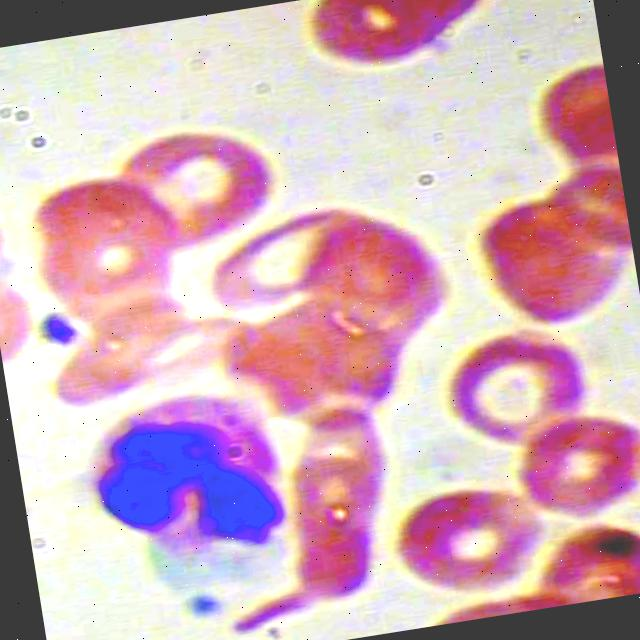Platelets: (34, 304, 90, 351), (182, 584, 228, 624)
RBC: (110, 108, 286, 264), (465, 183, 640, 339), (194, 188, 367, 332), (386, 468, 552, 608), (438, 316, 602, 457), (306, 200, 457, 352), (270, 299, 424, 441), (32, 188, 193, 314), (284, 443, 406, 605), (504, 397, 640, 538), (300, 0, 471, 100), (522, 51, 618, 176), (532, 515, 640, 608)
WBC: (72, 376, 306, 578)
